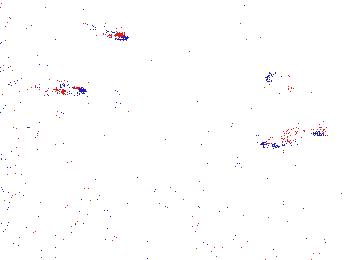X-ray fish: (217, 15, 256, 51), (143, 135, 187, 166)
red belly glassfish: (87, 22, 129, 43), (48, 79, 89, 98)
redtail glassfish: (261, 122, 328, 151), (263, 69, 301, 99)
